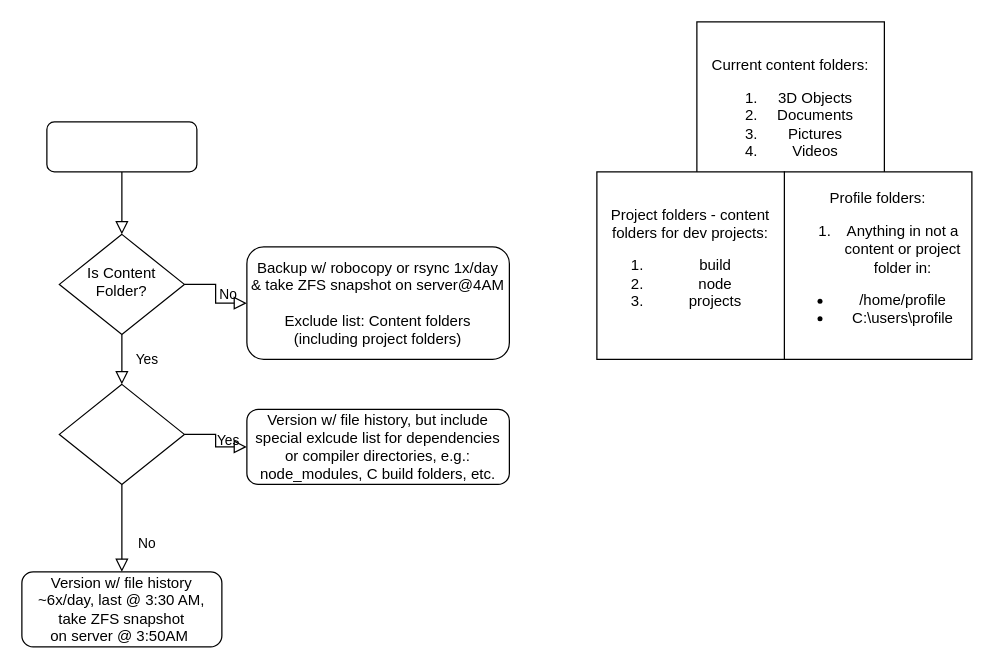
Some shapes in this 994 by 669 pixel diagram are drawn without their labels. The centre of each missing label's shape, as x and y in pixels:
Back up profiles: the point at 121,146
Is Project Folder?: the point at 121,433
